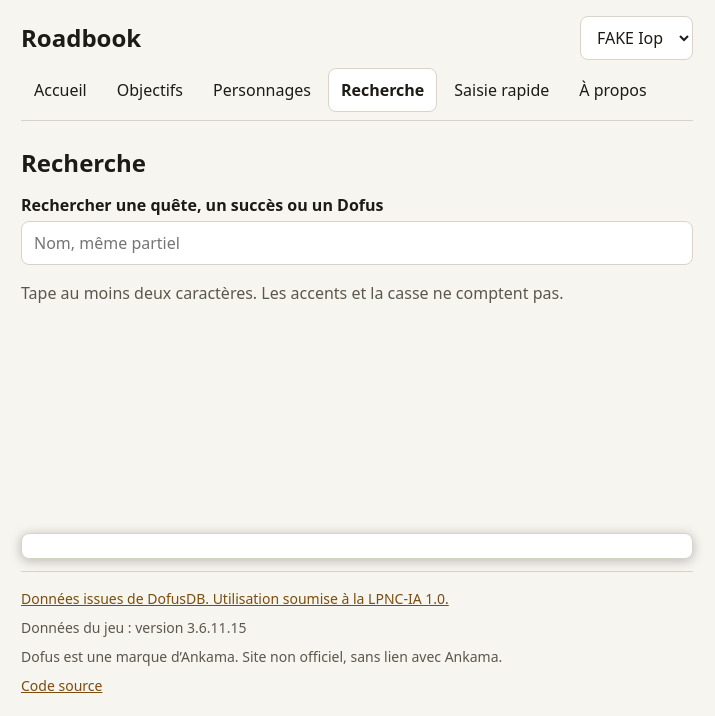
Scenario: M4 screens › global search finds quests, achievements and Dofus, and links to sheets and plans
Type "glaces" into the search field labelled "Rechercher une quête, un succès ou un Dofus" at (357, 243), box top-left (21, 221), bottom-right (693, 265)
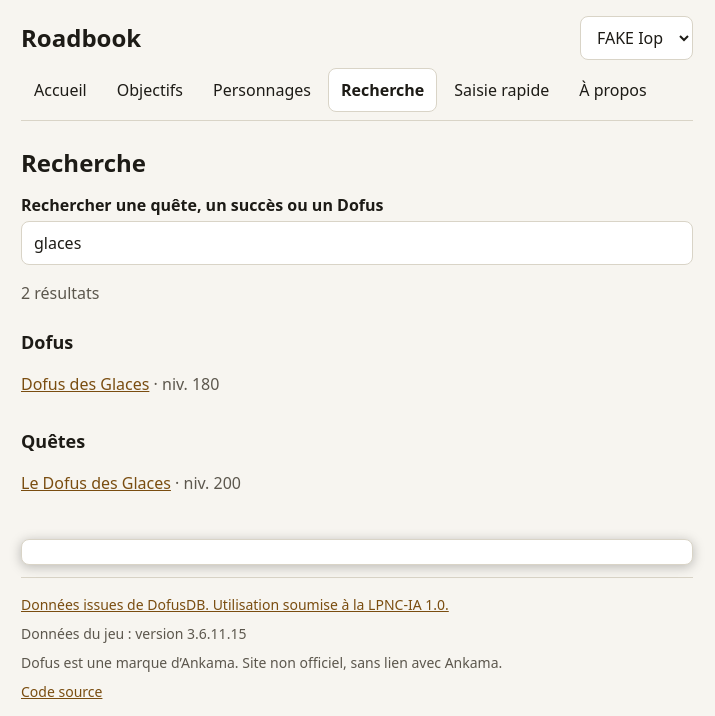
Expected: the text "Dofus" is shown, top-left (21, 194), bottom-right (384, 216)
Expected: the text "Quêtes" is shown, top-left (21, 429), bottom-right (85, 453)
Replace the text in the search field labelled "Rechercher une quête, un succès ou un Dofus" with "zzzz introuvable" at (357, 243), box top-left (21, 221), bottom-right (693, 265)
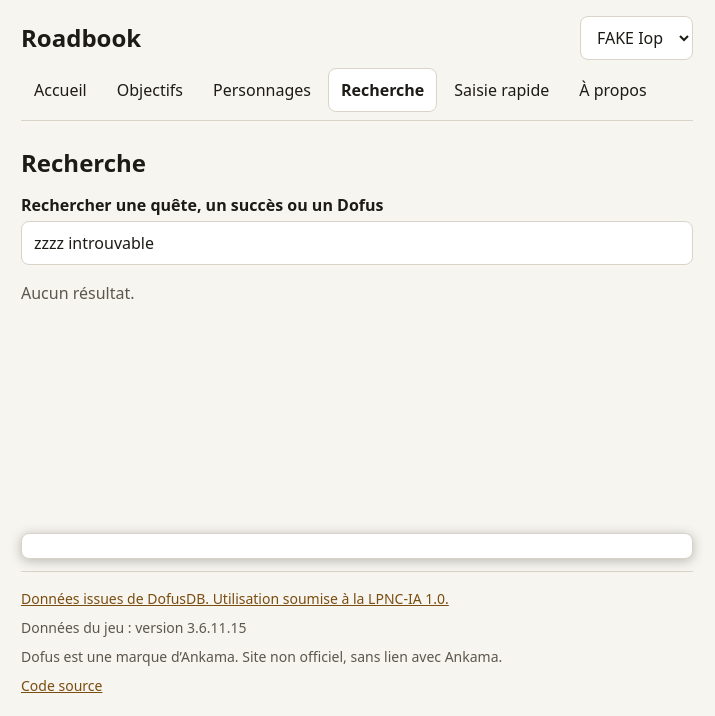
Expected: the text "Aucun résultat." is shown, top-left (21, 282), bottom-right (134, 304)
